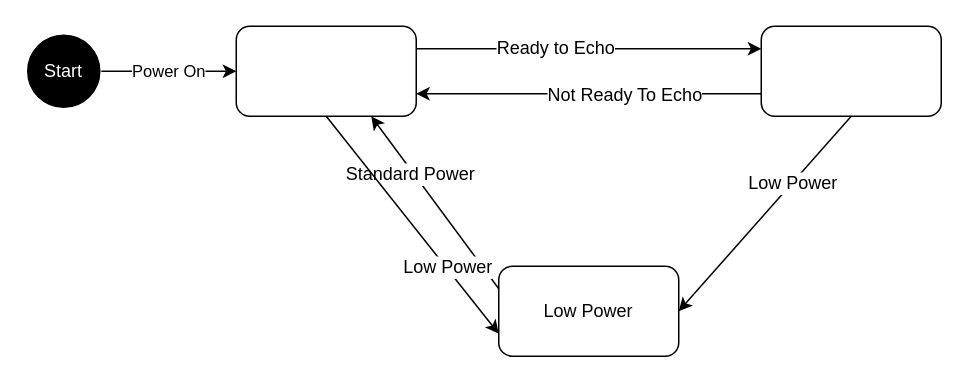
This 968x383 diagram has some shape labels left out. Here are the shapes that lost their labels. From the top down, the centre of each, then its label:
[325,70]: Idle
[850,70]: Echo
